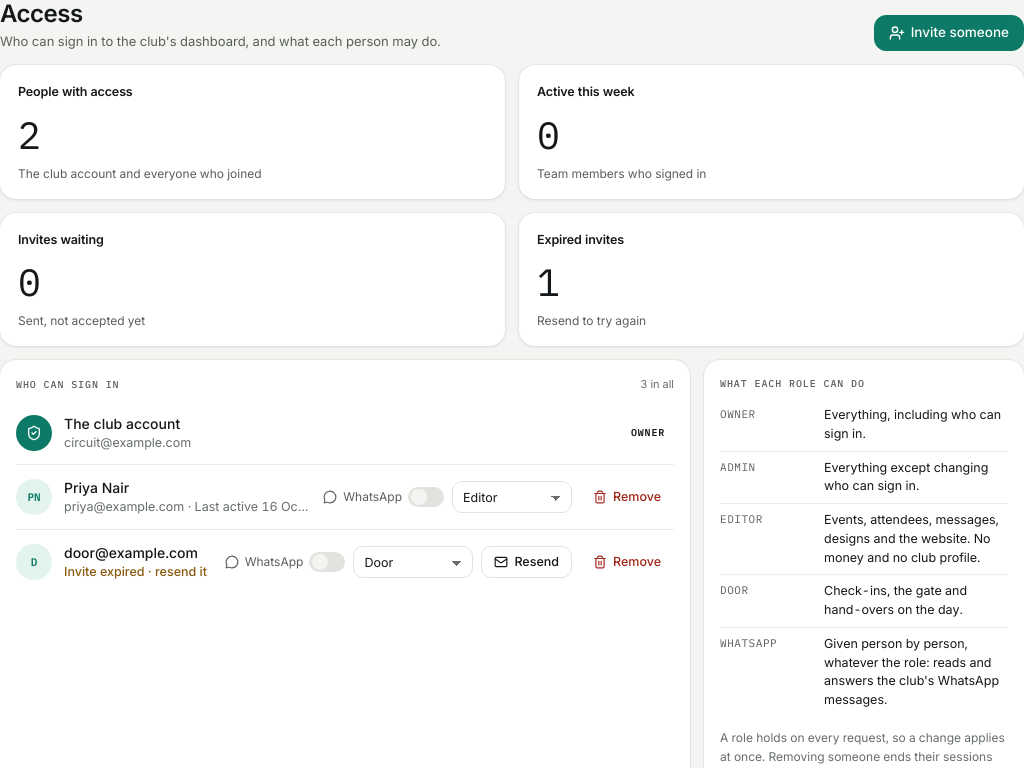
it: the access page › invites someone with a role and shows the link to send another way
Click the button "Invite someone" at (949, 33), box [874,15,1023,51]
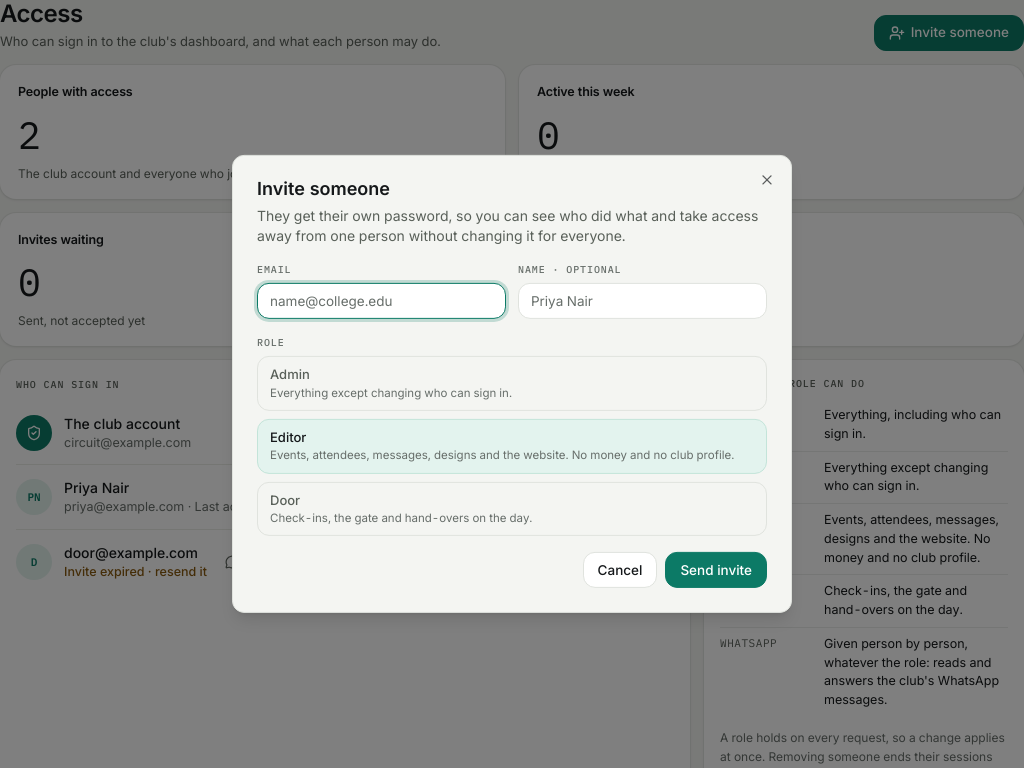
Type "lead@example.com" into the field with placeholder "name@college.edu" at (382, 301), box [257,283,506,319]
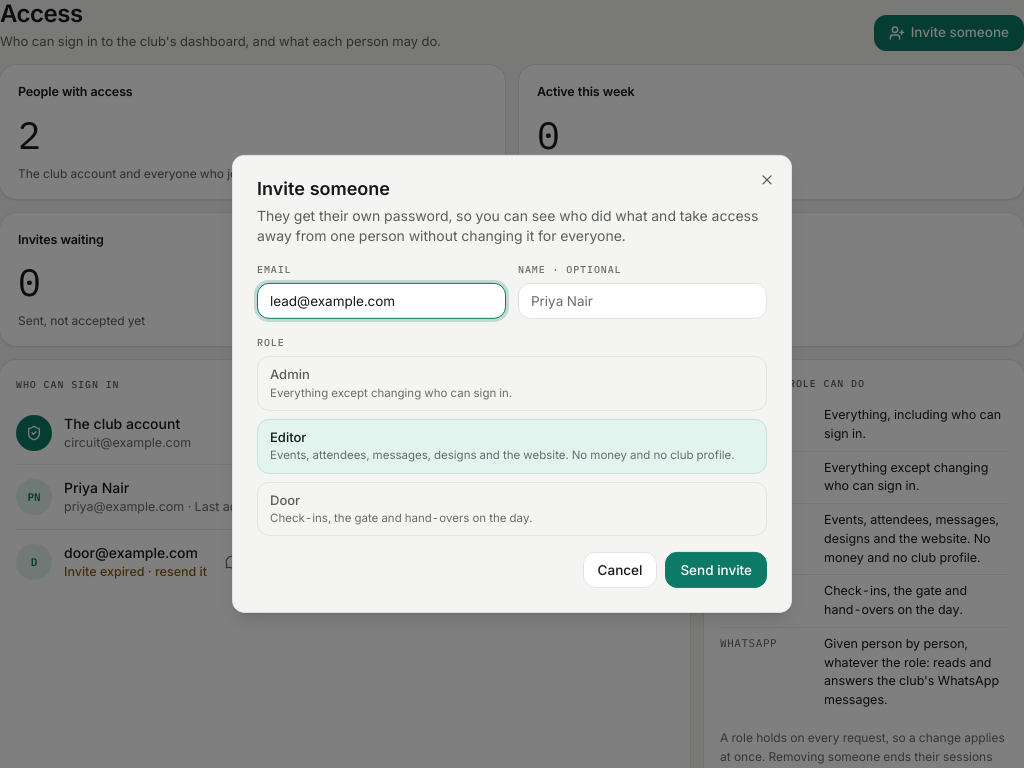
Click the radio button labelled "Admin Everything except changing who can sign in." at (512, 383), box [257,356,767,411]
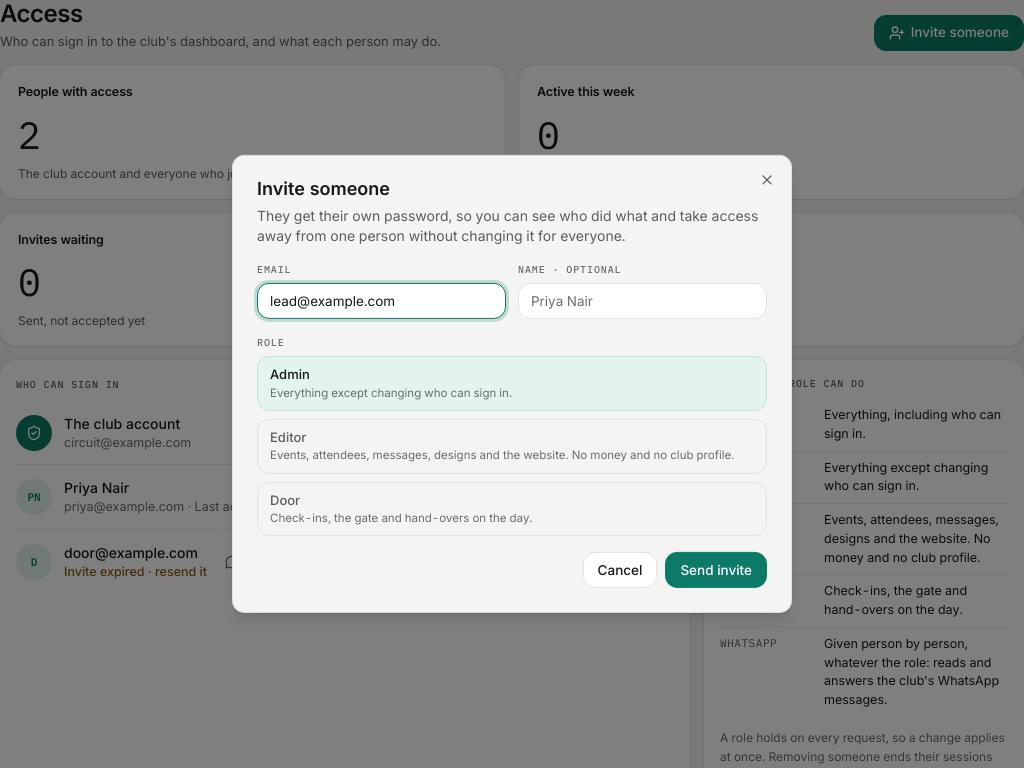
Click the button "Send invite" at (716, 570), box [665,552,767,588]
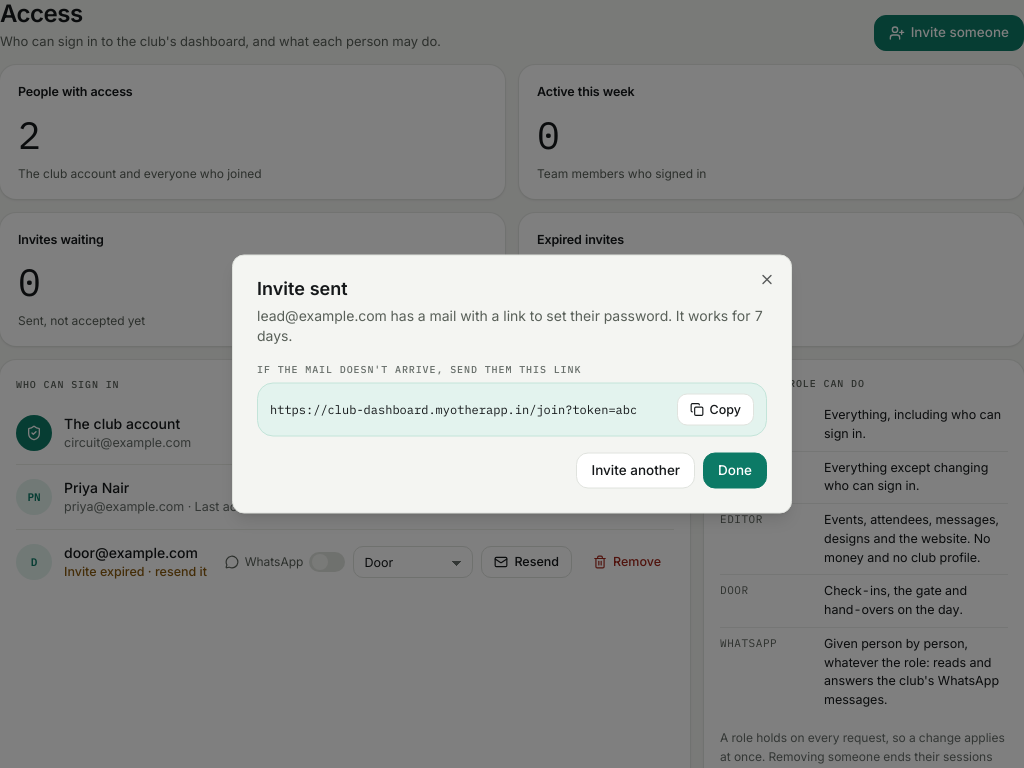
expect the text "https://club-dashboard.myotherapp.in/join?token=abc" is shown: met, box [270,400,669,418]
